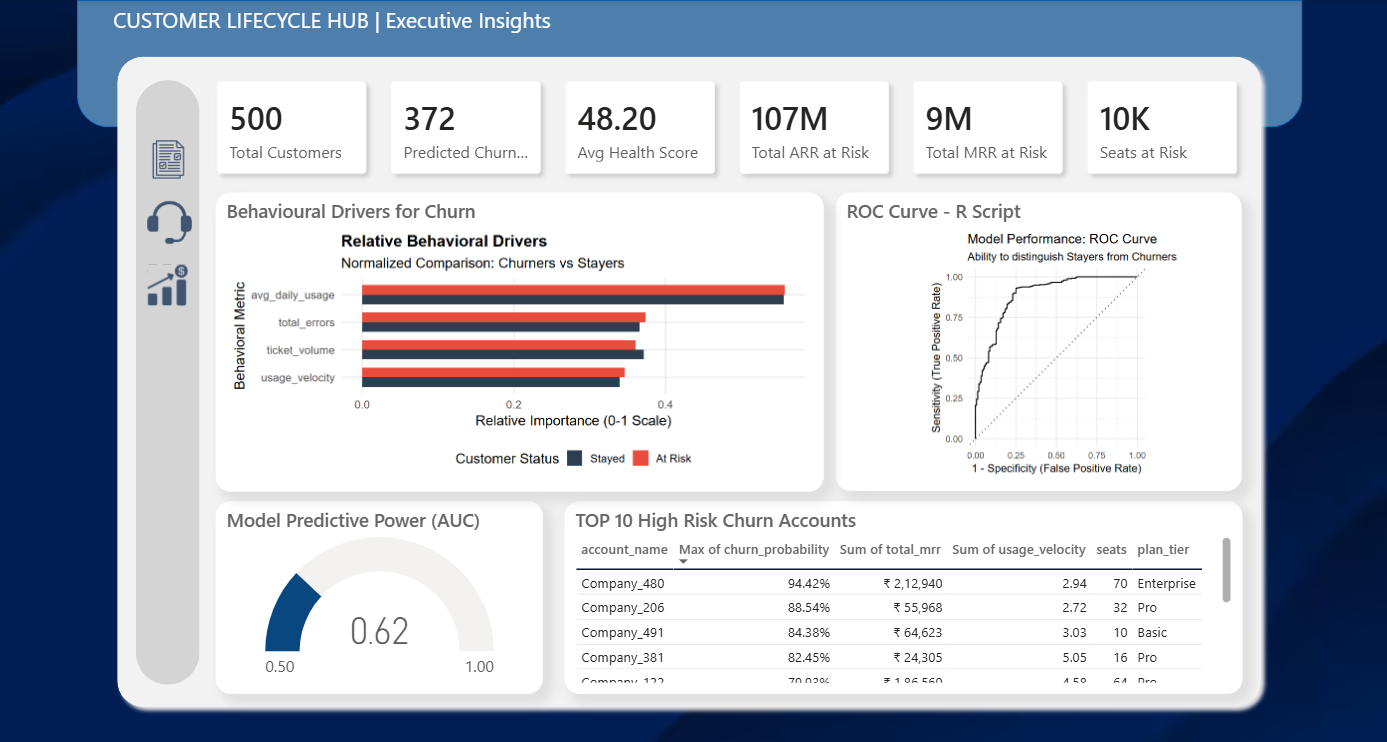

What the dashboard file says about the page in this screenshot:
{"tool":"powerbi","page":{"name":"Exec Insights","canvas":[1400,750],"ordinal":0},"visuals":[{"type":"shape","box":[80,0,1232,128],"z":0},{"type":"shape","box":[112,48,1168,672],"z":1000},{"type":"textbox","box":[111.6,0,816.9,48.6],"z":2000},{"type":"cardVisual","title":"EXECUTIVE KPI''S","fields":{"Data":["Measures_Table.Total_Customers","Measures_Table.Predicted_Churn_Count","Measures_Table.Avg_Health_Score","Measures_Table.Total ARR at Risk","Measures_Table.Total MRR at Risk","Measures_Table.Seats at Risk"]},"box":[203.6,64.4,1065.1,128.7],"z":3000},{"type":"actionButton","box":[139.2,80.1,64.4,608.1],"z":4000},{"type":"tableEx","title":"TOP 10 High Risk Churn Accounts","fields":{"Values":["Dim_Accounts.account_name","Max(Fact_Churn_Prediction.churn_probability)","Sum(Fact_Churn_Prediction.total_mrr)","Sum(Fact_Churn_Prediction.usage_velocity)","Dim_Accounts.seats","Dim_Accounts.plan_tier"]},"box":[570.6,503.6,681.3,193.3],"z":5000},{"type":"gauge","title":"Model Predictive Power (AUC)","fields":{"Y":["Measures_Table.Model AUC"]},"box":[219.8,503.6,329,193.3],"z":6000},{"type":"scriptVisual","title":"ROC Curve - R Script","fields":{"Values":["Fact_Churn_Prediction.is_churned","Fact_Churn_Prediction.churn_probability"]},"box":[843.5,193.6,408.2,300.2],"z":7000},{"type":"scriptVisual","title":"Behavioural Drivers for Churn","fields":{"Values":["Fact_Churn_Prediction.usage_velocity","Fact_Churn_Prediction.avg_daily_usage","Fact_Churn_Prediction.ticket_volume","Fact_Churn_Prediction.total_errors","Fact_Churn_Prediction.is_churned"]},"box":[219.8,193.3,611.1,300.9],"z":8000},{"type":"actionButton","box":[146.3,128.5,50.9,64.9],"z":9000},{"type":"actionButton","box":[146.9,194.2,50.6,57.1],"z":10000},{"type":"actionButton","box":[147.4,251.1,49.1,71],"z":11000}]}

Visuals, with their boxes in screenshot pixels (x1, y1, x2, y2), scaled from the page's 1400x750 canvas onto the 1387x742 screenshot:
shape: box=[79, 0, 1300, 127]
shape: box=[111, 47, 1268, 712]
textbox: box=[111, 0, 920, 48]
"EXECUTIVE KPI''S" cardVisual: box=[202, 64, 1257, 191]
actionButton: box=[138, 79, 202, 681]
"TOP 10 High Risk Churn Accounts" tableEx: box=[565, 498, 1240, 689]
"Model Predictive Power (AUC)" gauge: box=[218, 498, 544, 689]
"ROC Curve - R Script" scriptVisual: box=[836, 192, 1240, 489]
"Behavioural Drivers for Churn" scriptVisual: box=[218, 191, 823, 489]
actionButton: box=[145, 127, 195, 191]
actionButton: box=[146, 192, 196, 249]
actionButton: box=[146, 248, 195, 319]
